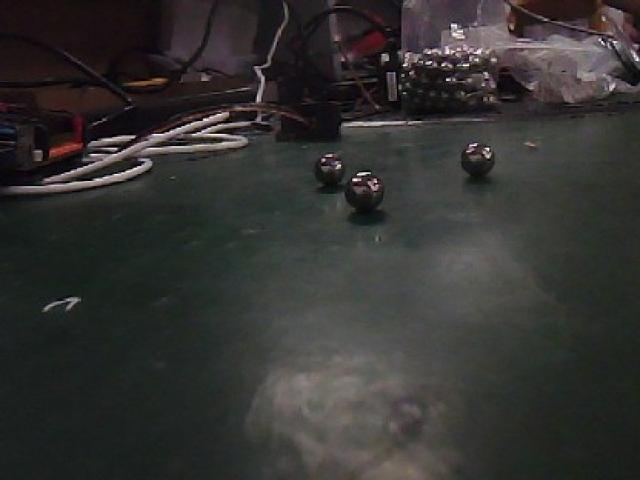steel-ball: (340, 154, 389, 221), (454, 134, 514, 181), (300, 136, 354, 184)
